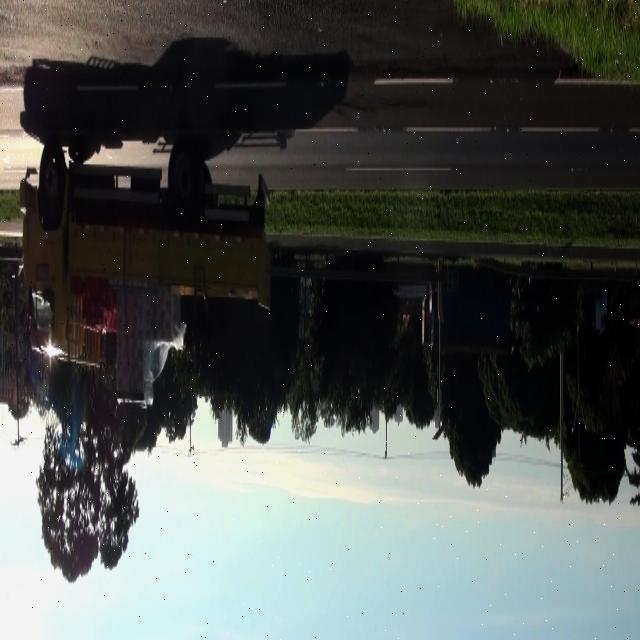-axle: (162, 148, 202, 229), (36, 137, 65, 220)
